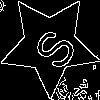S: (25, 20, 79, 74)
